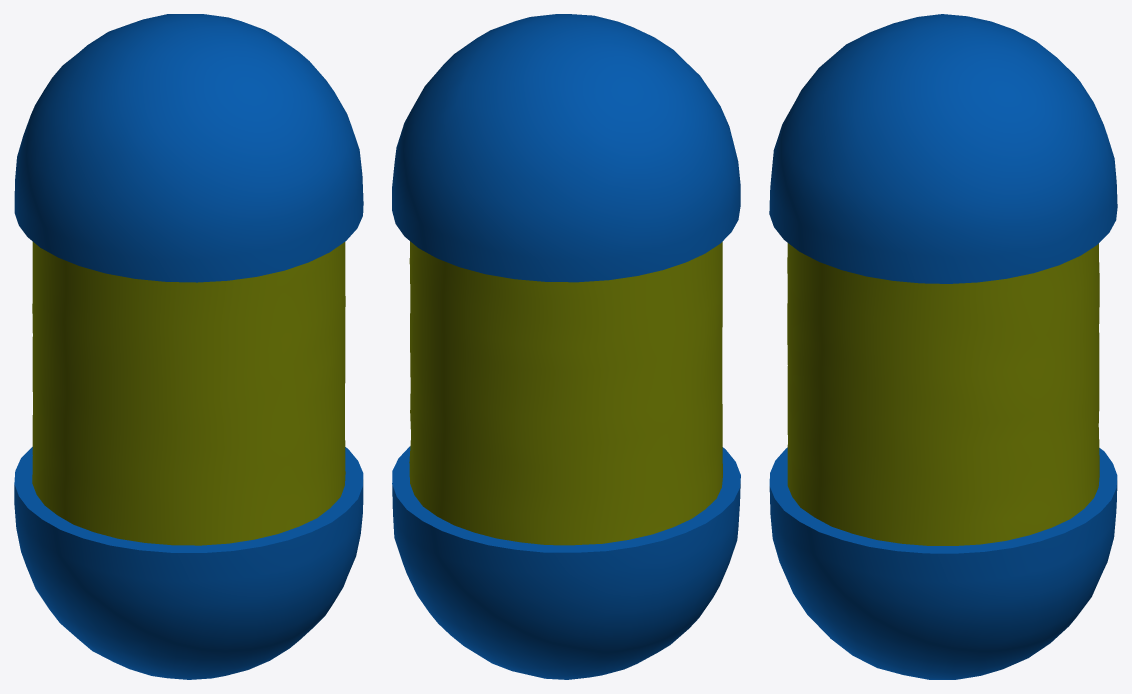
File: Capsule_with_insert.fbx
3 renders of one model, left to right at view 1: azimuth 30°, elevation 25°; view 2: azimuth 150°, elevation 25°; view 3: azimuth 270°, elevation 25°, orthographic.
Parts seen in each view (by area): view 1: Capsule_with_insert; view 2: Capsule_with_insert; view 3: Capsule_with_insert.
Boxes of the visible parts, <box> form: Capsule_with_insert: <box>14,14,363,679</box>; Capsule_with_insert: <box>392,14,740,679</box>; Capsule_with_insert: <box>769,14,1117,679</box>.
Size of the model in its own units: 28.67 by 57.23 by 28.64.
